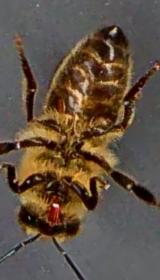varroa_mite: (51, 94, 70, 121)
